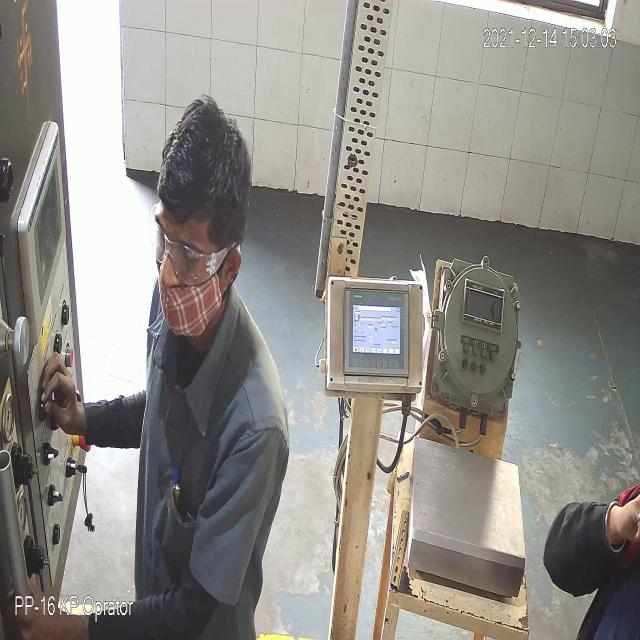glasses: (147, 218, 227, 282)
